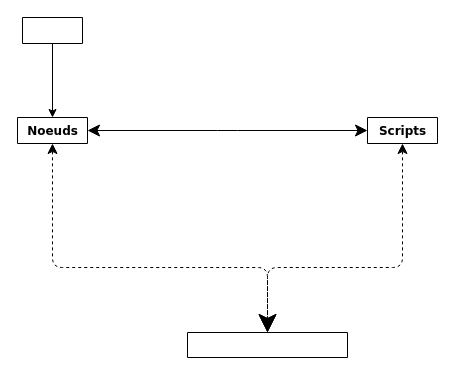
This 455x375 diagram has some shape labels left out. Here are the shapes that lost their labels. From the top down, the box of each, then its label:
(22, 16, 82, 44): Scene
(186, 332, 348, 358): Données
